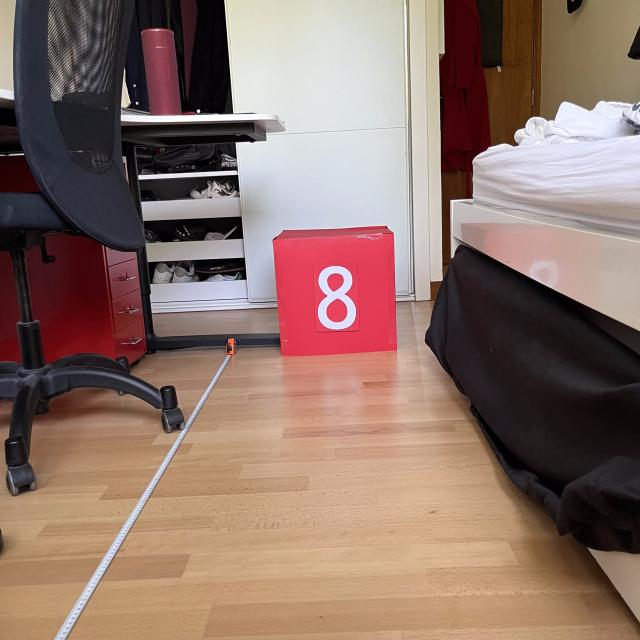box: (269, 221, 400, 358)
